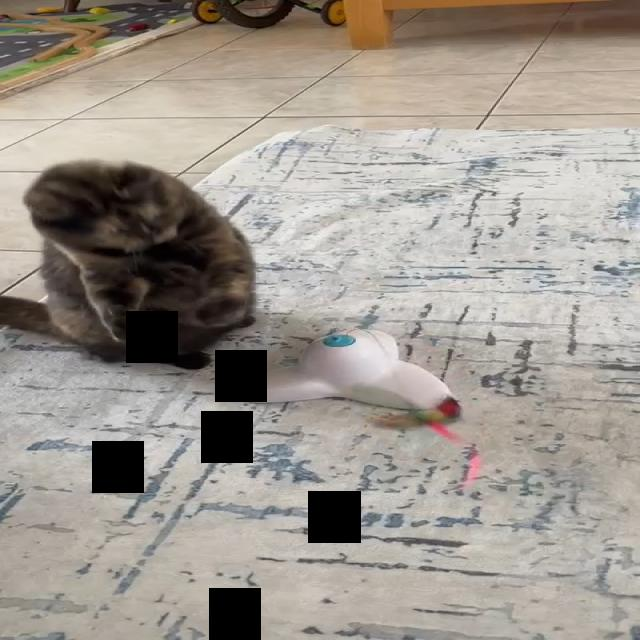authorized: (0, 157, 257, 370)
